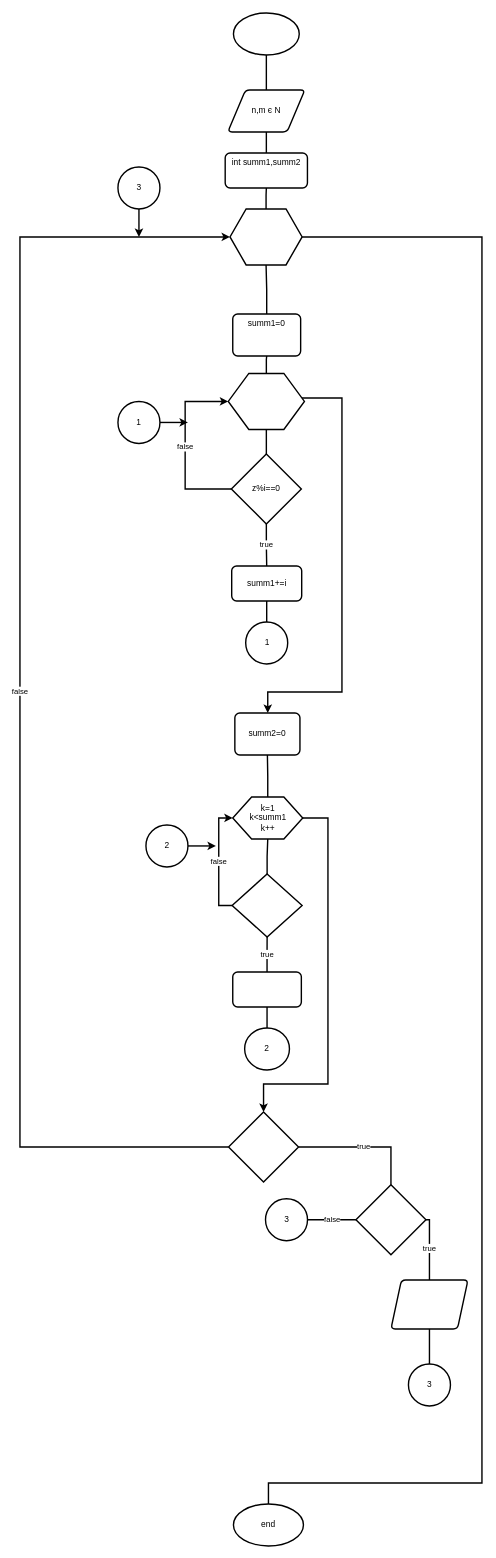
The diagram is 496 pixels wide and 1558 high, and some of its shapes have lost their labels. Here are the shapes that lost their labels. From the top down, the centre of each, then its label:
At [266,33]: "start".
At [265,236]: "z=n z<=m z++".
At [266,401]: "i=1 i<z i++".
At [266,905]: "summ1 % k == 0".
At [267,989]: "summ2+=k".
At [263,1146]: "summ2 == z && summ1 != z".
At [390,1219]: "summ1 > z".
At [429,1304]: "Числа {z} and {summ1} дружні".
